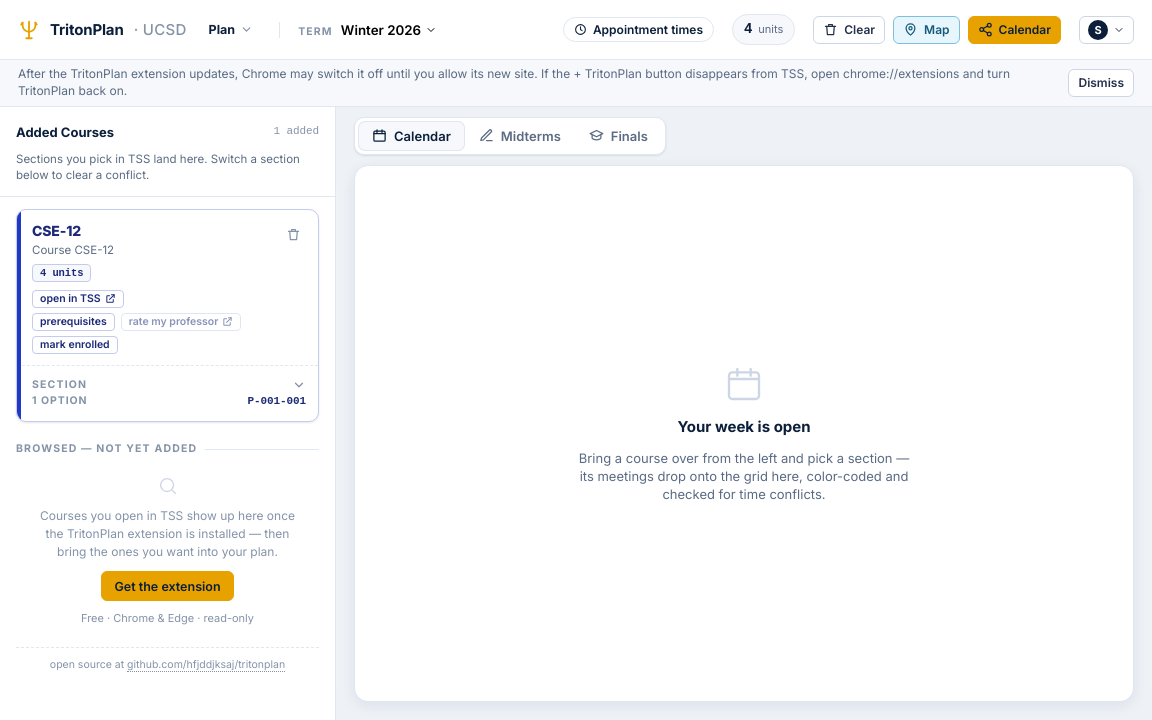
Test case: App → the map's term button › opens on the planner’s term, offers the account’s others, and switching leaves the planner alone
Click the button "Map" at {"x": 926, "y": 30}, box [893,16,960,44]
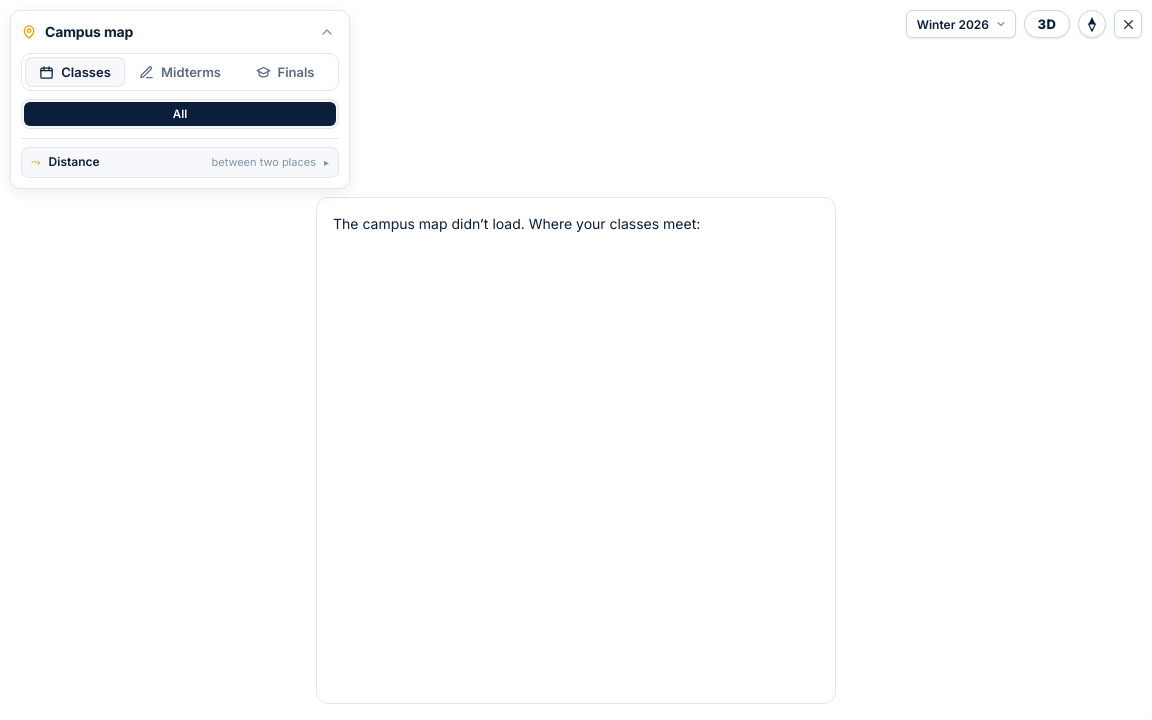
Check: the element with class "topbar__term-label" reads "Winter 2026", box [341,22,421,38]
Click the button "Winter 2026" at {"x": 961, "y": 24}, box [906,10,1016,38]
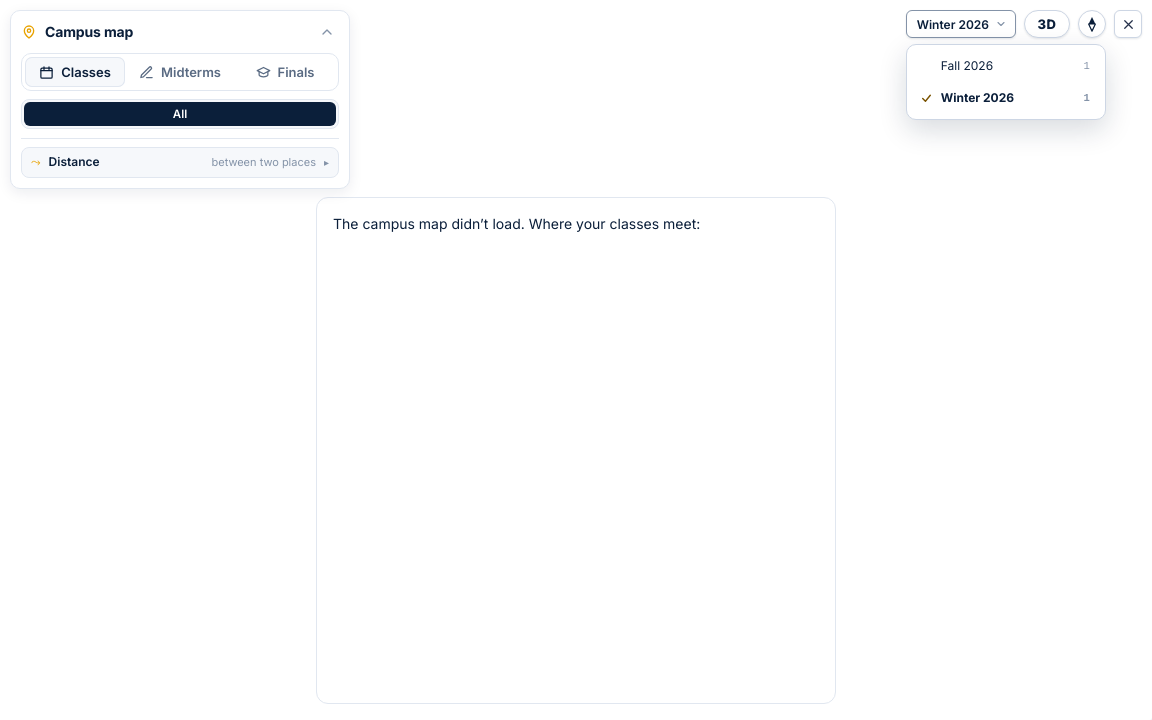
Click the button "Winter 2026" at {"x": 961, "y": 24}, box [906,10,1016,38]
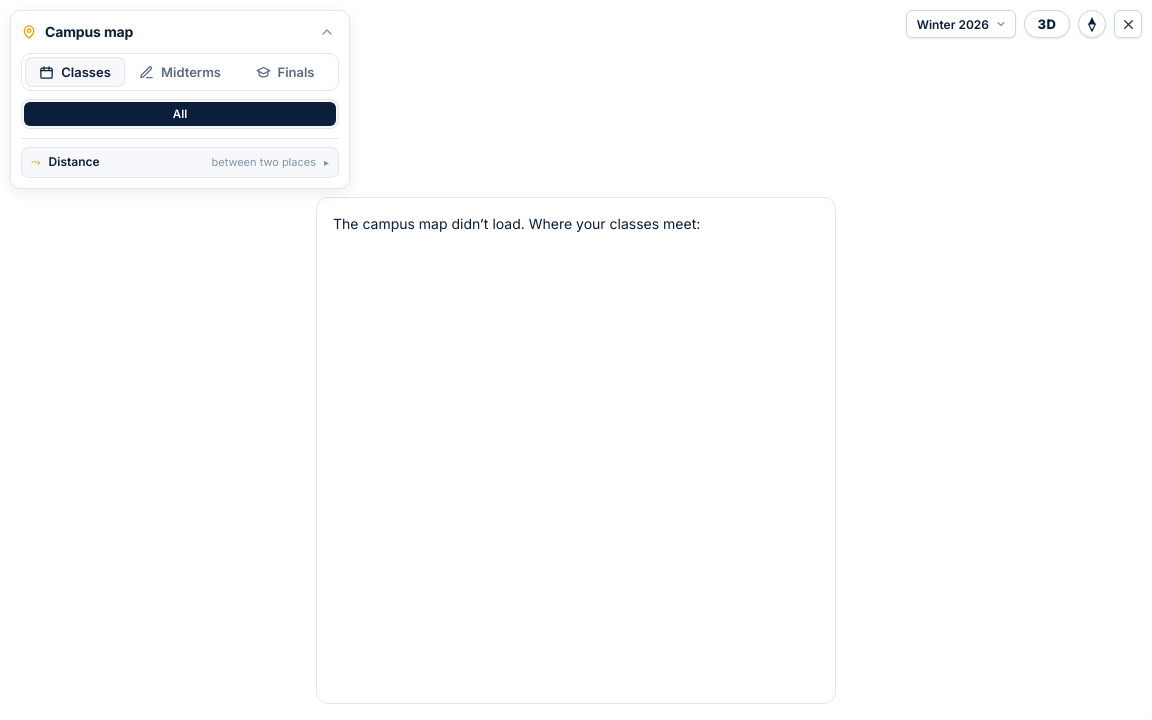
Click the button "Winter 2026" at {"x": 961, "y": 24}, box [906,10,1016,38]
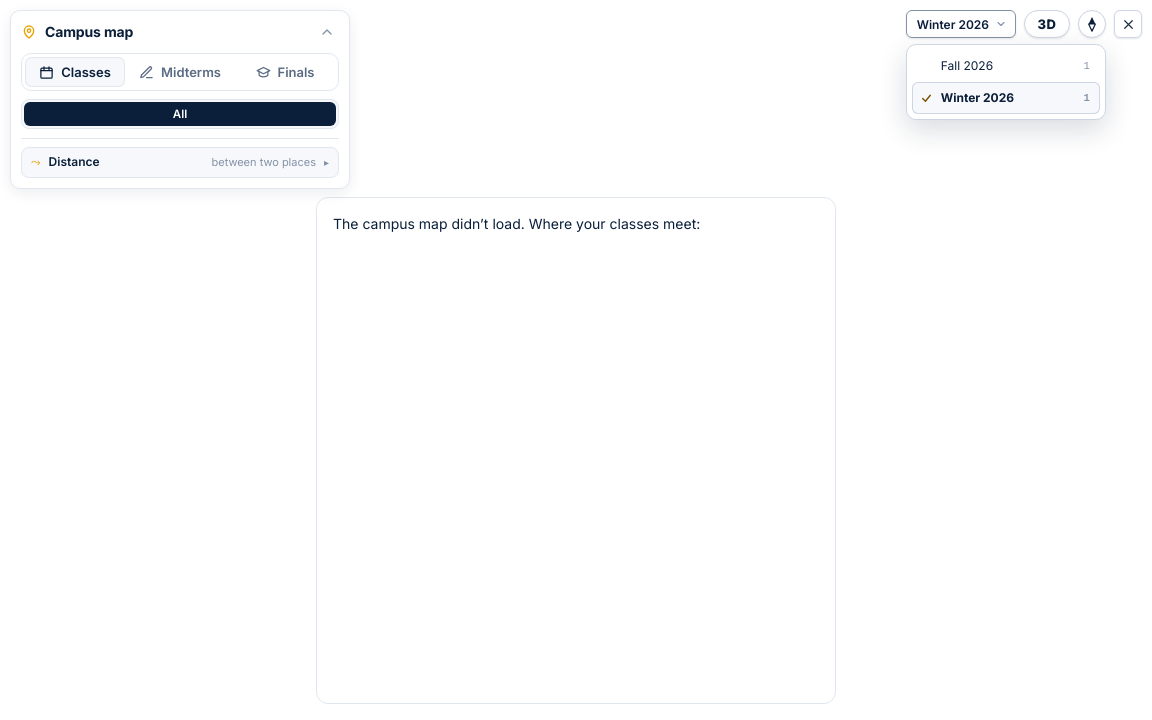
Click the option "Fall 2026 1" at {"x": 1006, "y": 66}, box [912,50,1100,82]
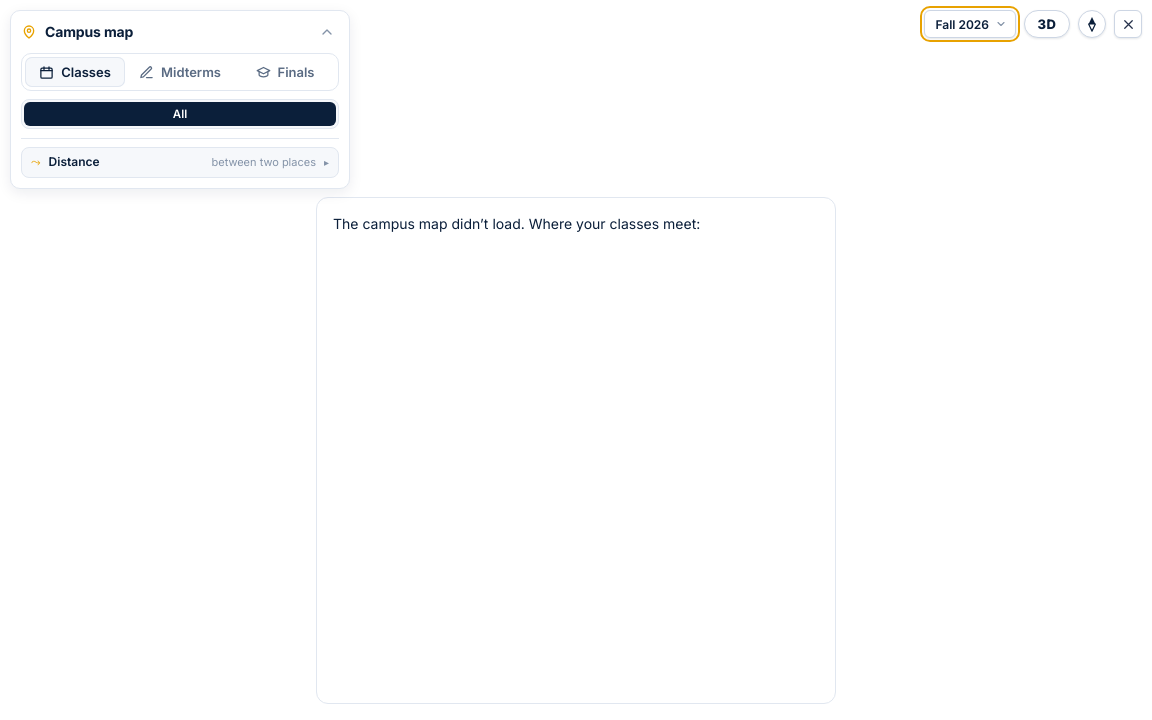
Check: the element with class "topbar__term-label" reads "Winter 2026", box [341,22,421,38]
Check: the text with class "msel__text" reads "Fall 2026", box [935,16,989,32]
